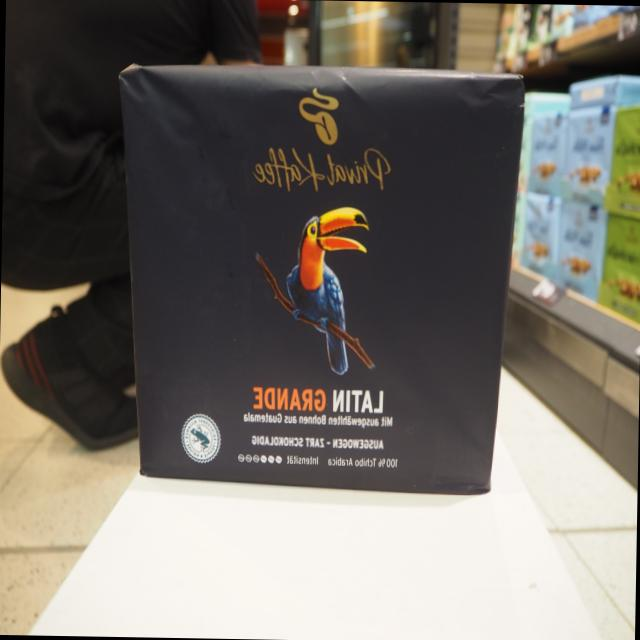LG Gemahlen: (115, 57, 532, 498)
